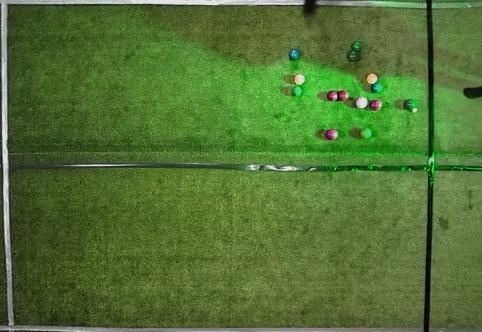blue: (288, 49, 300, 61), (371, 83, 382, 93)
green: (359, 127, 372, 139), (347, 51, 359, 62), (404, 99, 415, 110), (350, 41, 362, 51), (291, 86, 302, 96)
red: (356, 97, 368, 108), (326, 129, 338, 140), (370, 100, 382, 111), (338, 90, 349, 101), (327, 91, 338, 101)
vline: (423, 1, 482, 331), (0, 1, 17, 331)
white: (412, 108, 417, 113)
yellow: (294, 74, 305, 85), (367, 73, 377, 84)
